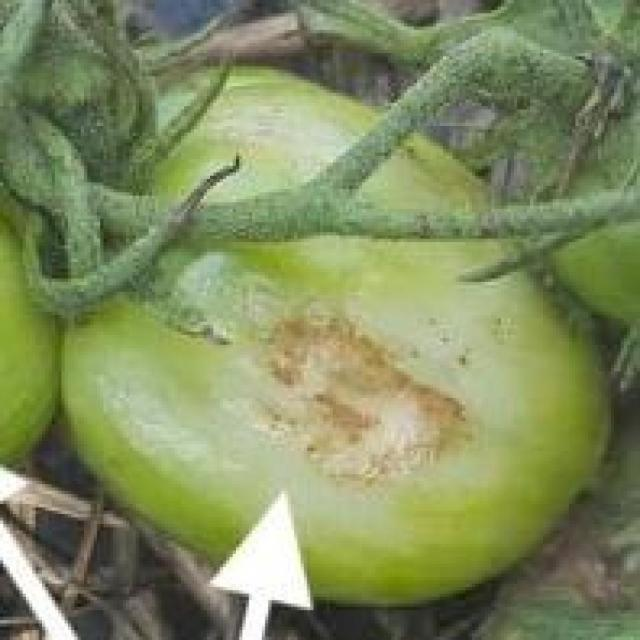Sunscald Fruit: (139, 195, 331, 343)
